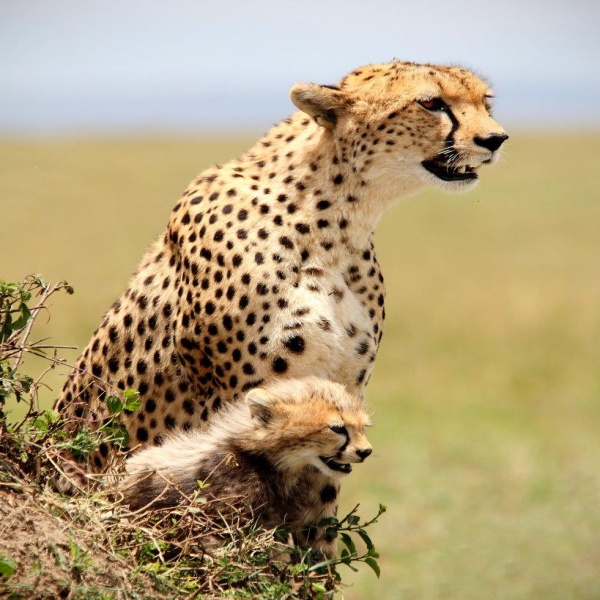Cheetah: (63, 55, 512, 544), (120, 376, 377, 546)
